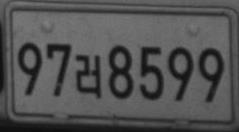5: (138, 46, 165, 100)
7: (45, 43, 71, 96)
8: (107, 45, 134, 99)
9: (198, 47, 225, 103), (167, 46, 194, 101), (16, 41, 42, 95)
러: (74, 54, 101, 98)
